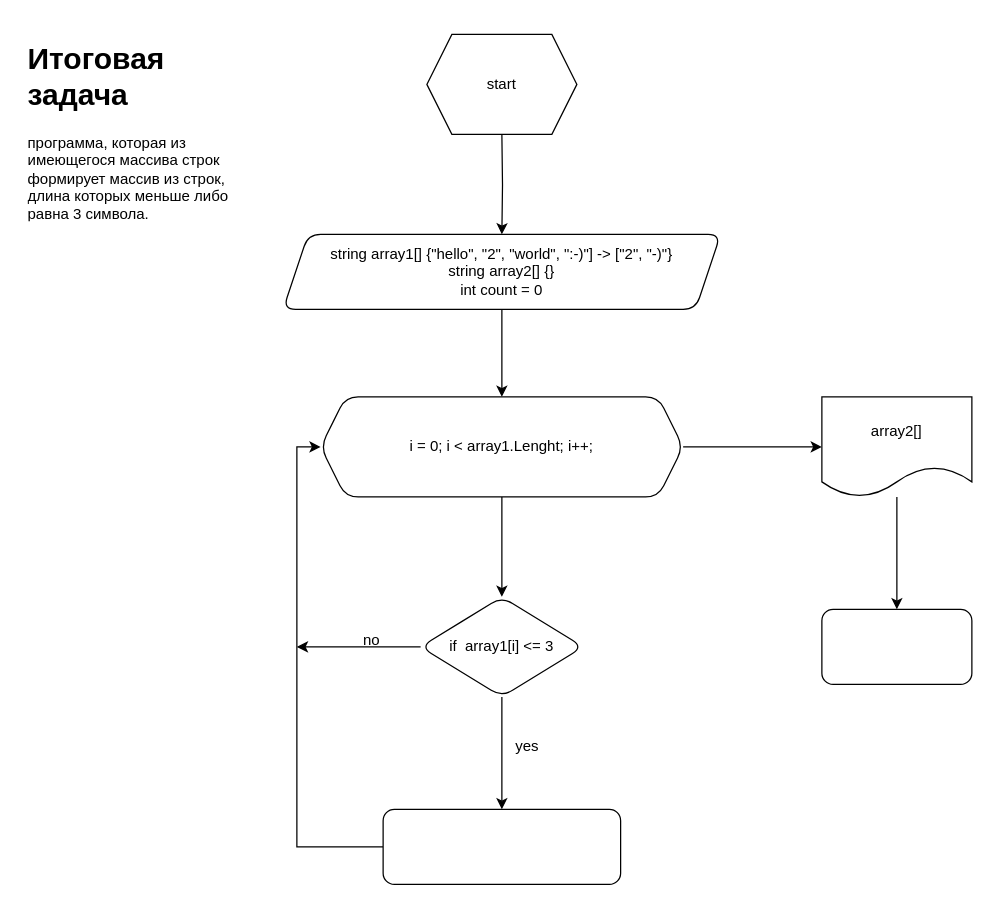
Some shapes in this 994 by 906 pixel diagram are drawn without their labels. Each missing label, with the box of its shape:
array2[count] = array1[i] count++;: (382, 808, 621, 884)
end: (821, 608, 972, 684)
